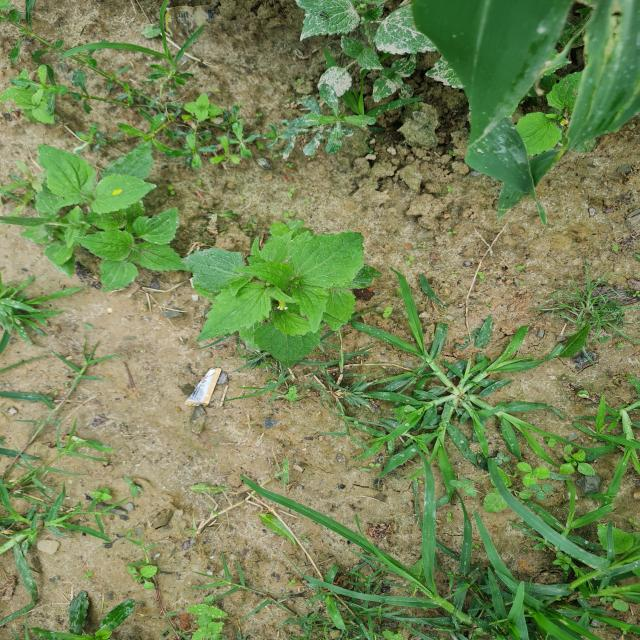weed: (254, 478, 640, 640), (347, 0, 586, 225), (0, 33, 315, 177), (210, 219, 404, 368), (19, 132, 186, 298), (0, 354, 135, 557), (374, 332, 538, 439), (10, 584, 244, 640), (518, 276, 640, 354)
